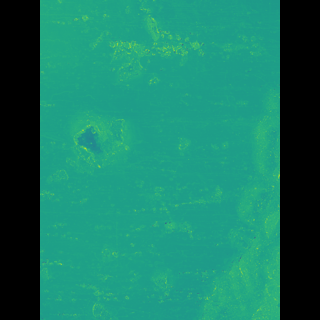Loch: (186, 85, 252, 319), (120, 8, 240, 89), (91, 104, 138, 171)
